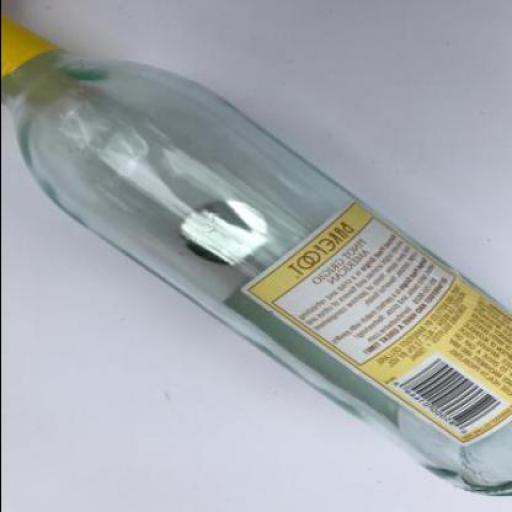glass: (1, 18, 511, 500)
